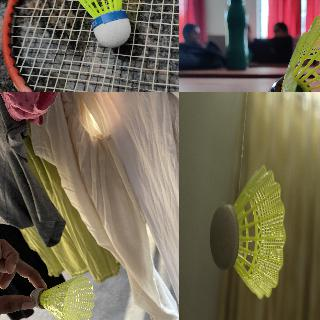shuttlecock: (210, 164, 286, 300), (267, 7, 319, 91), (46, 0, 131, 48), (29, 276, 94, 319)
